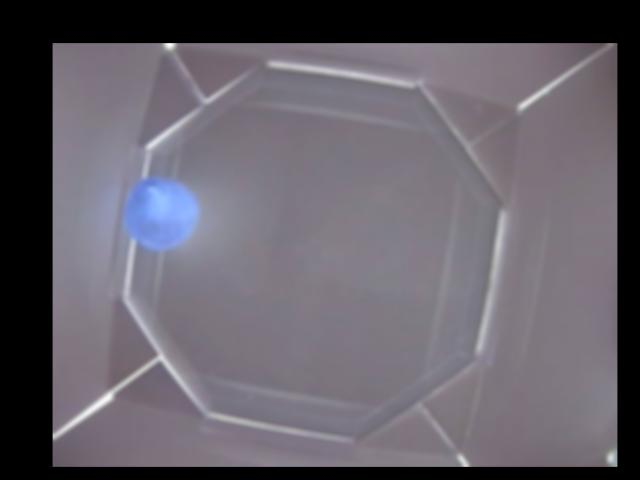Potato: (122, 172, 198, 245)
